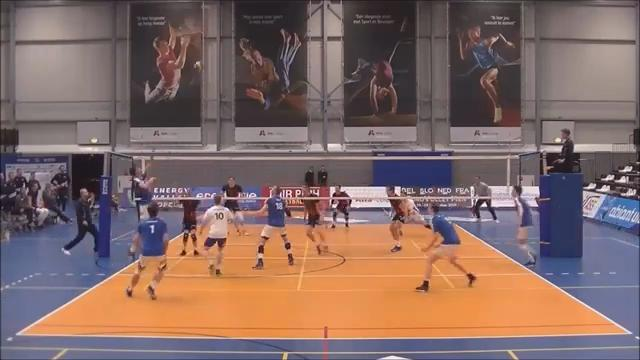Attack: (123, 149, 155, 258)
Player: (415, 204, 475, 291), (126, 202, 168, 299), (247, 186, 293, 269), (199, 195, 232, 275), (512, 185, 536, 266), (303, 185, 327, 254), (222, 177, 247, 235), (387, 186, 406, 251), (180, 199, 199, 255), (401, 191, 429, 227), (331, 185, 351, 228)
ball: (193, 61, 203, 72)
